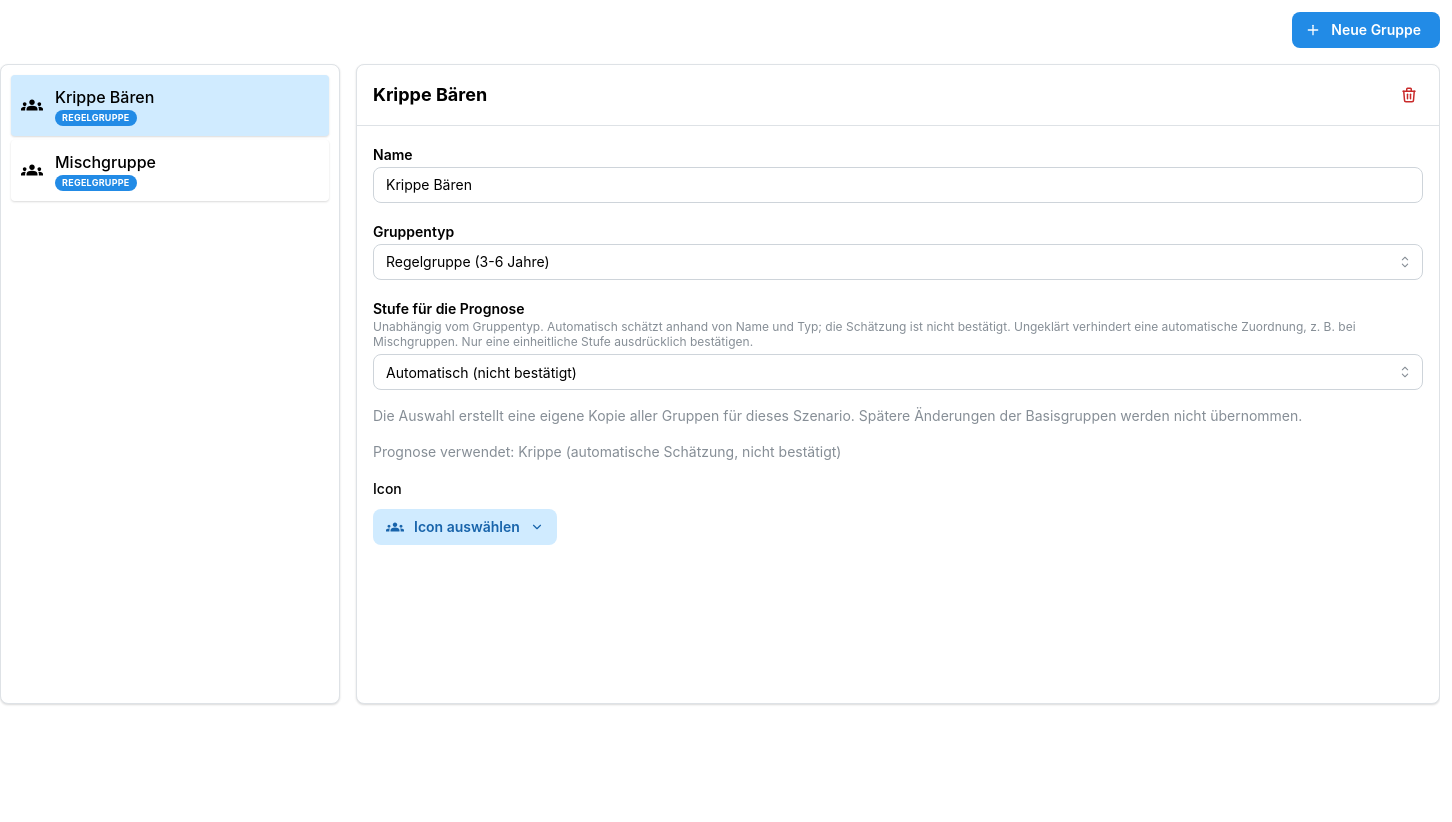
it: forecast stage group editor › shows mixed groups as unresolved and preserves the base when selecting in a derived scenario
This screenshot has width=1452, height=822.
Click the element with test id "data-list-item-g2" at [170, 170], box [11, 140, 329, 201]
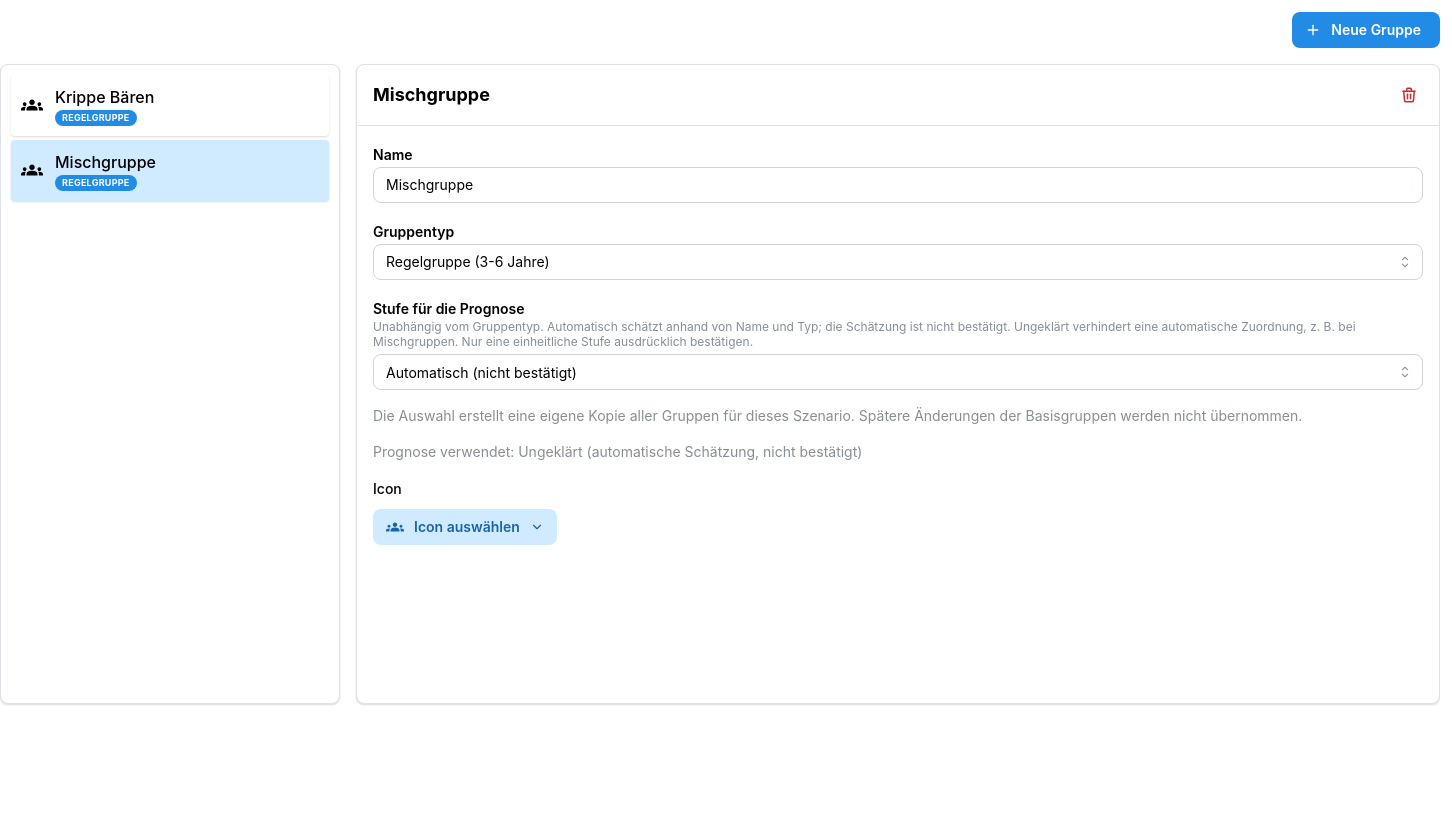
Expected: the text "Die Auswahl erstellt eine eigene Kopie aller Gruppen" is shown, [373, 407, 1302, 424]
Expected: the text "Prognose verwendet: Ungeklärt (automatische Schätzung, nicht bestätigt)" is shown, [373, 444, 862, 460]
Click the dropdown labelled "Stufe für die Prognose" at [898, 372], box [373, 354, 1423, 390]
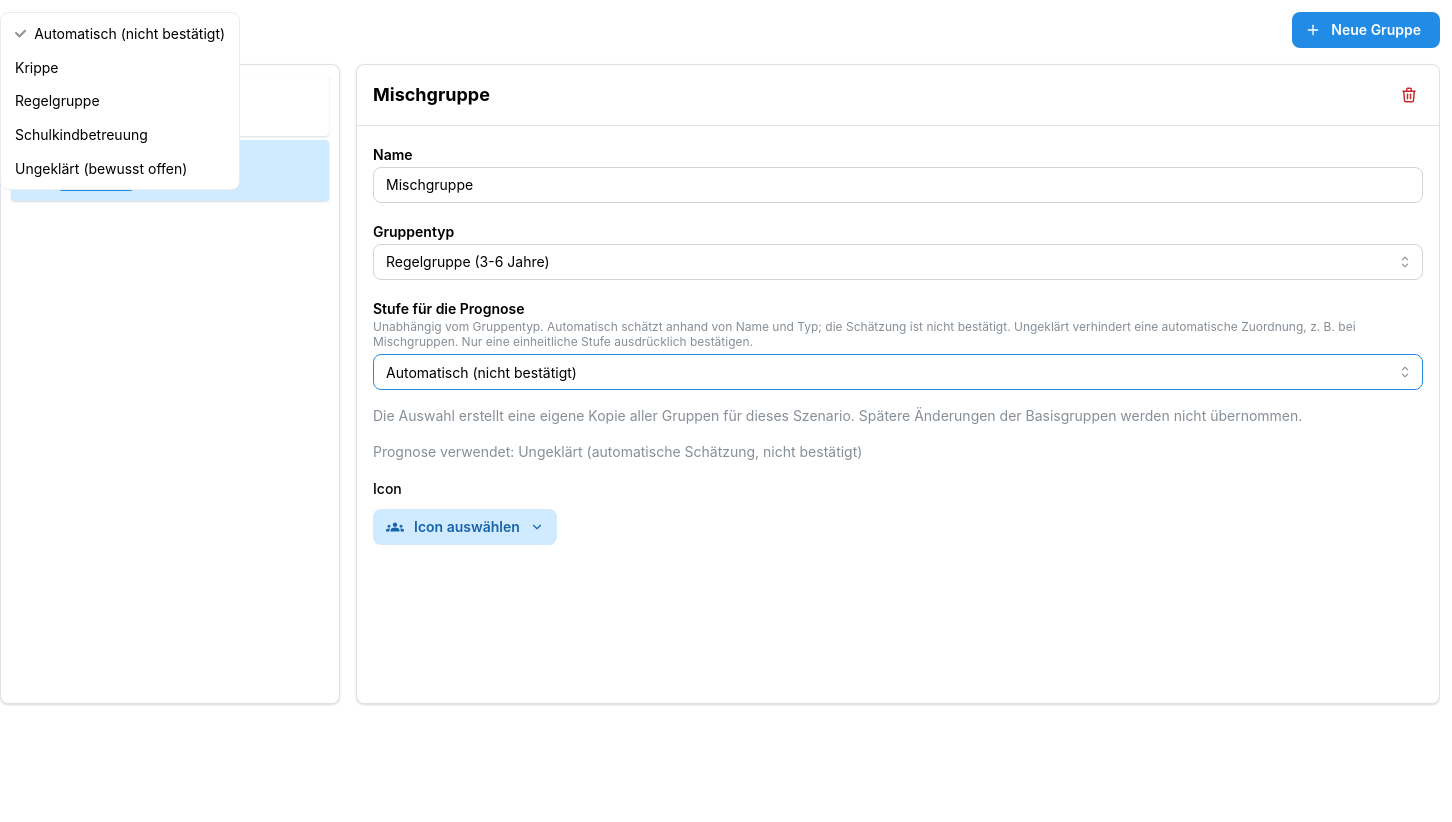
Click the option "Ungeklärt (bewusst offen)" at [101, 168], box [15, 160, 187, 177]
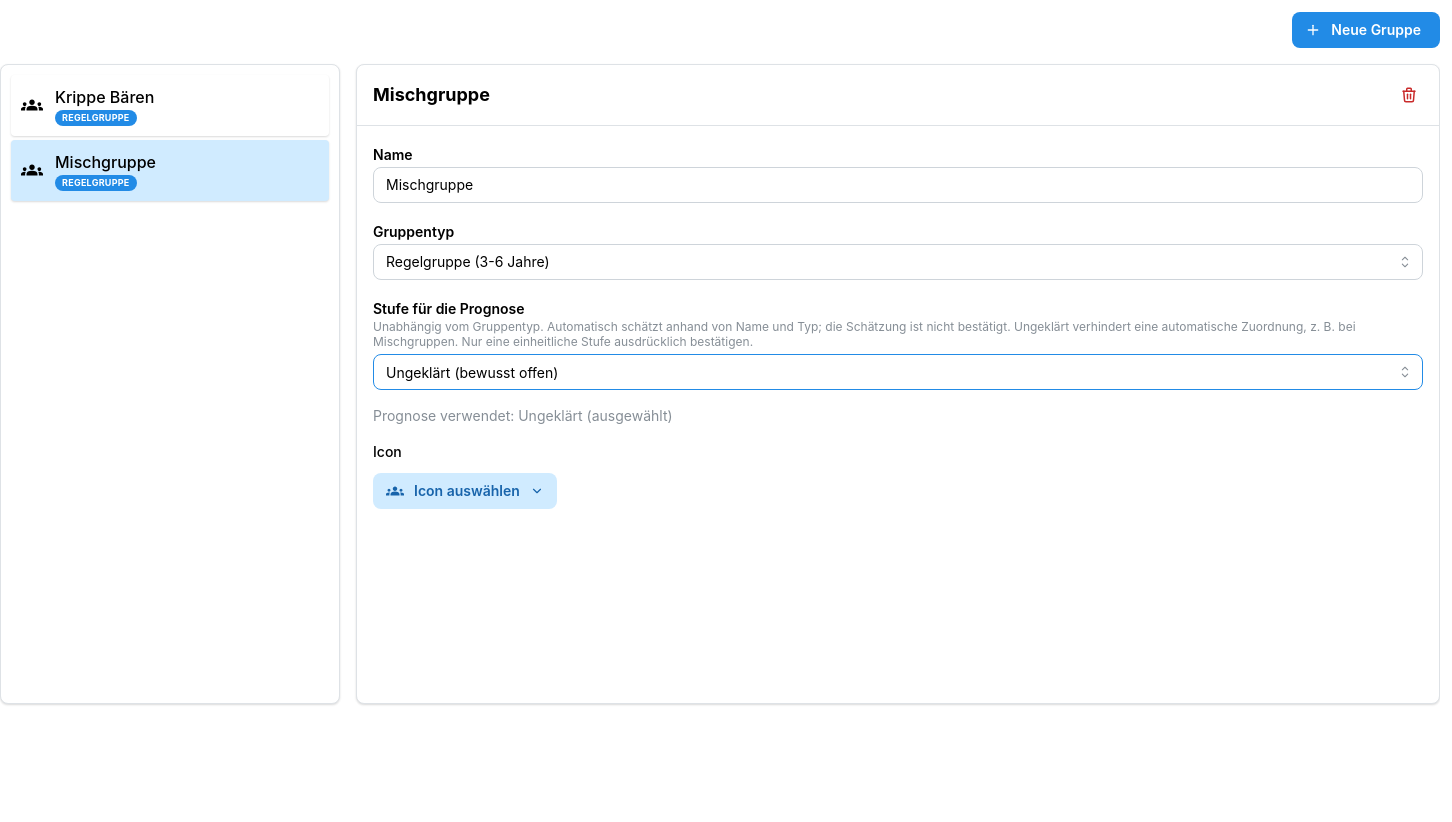
Expected: the text "Prognose verwendet: Ungeklärt (ausgewählt)" is shown, [373, 407, 673, 424]
